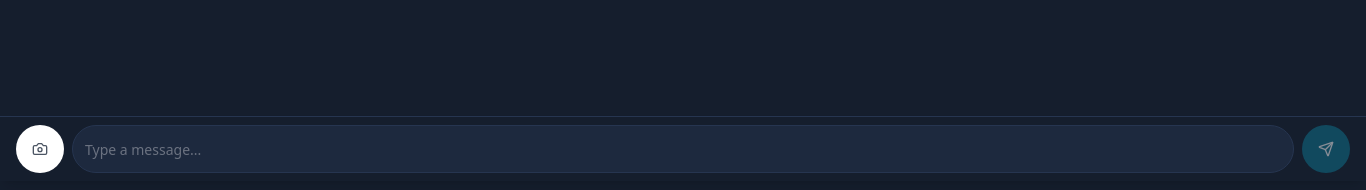
Test: actual message composer and image controls › locks an uncertain message, retains it across remount, and checks its receipt before clearing
Later steps or results of the test are not shown.
Step 1. Type "uncertain message" into the field labelled "message" → {"x": 683, "y": 149}, box [72, 125, 1294, 173]
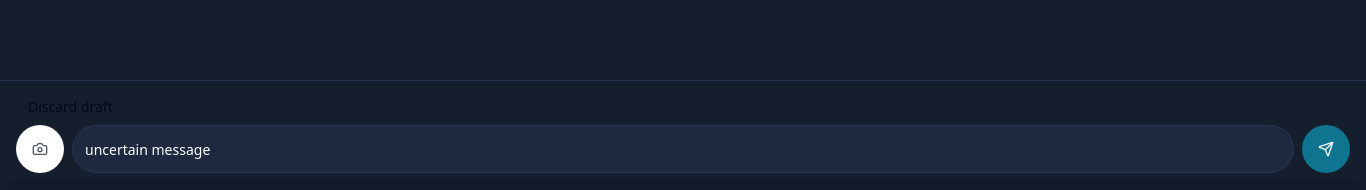
Step 2. Click the button named "Send message" → {"x": 1326, "y": 149}, box [1302, 125, 1350, 173]
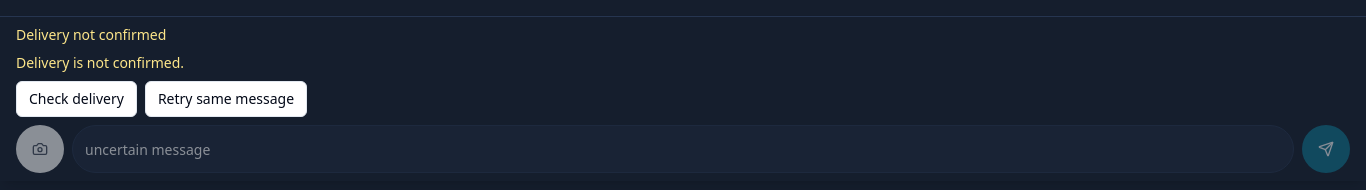
expect the button "Check delivery" is enabled: met, box [16, 81, 137, 117]
expect the field named "message" is disabled: met, box [72, 125, 1294, 173]
